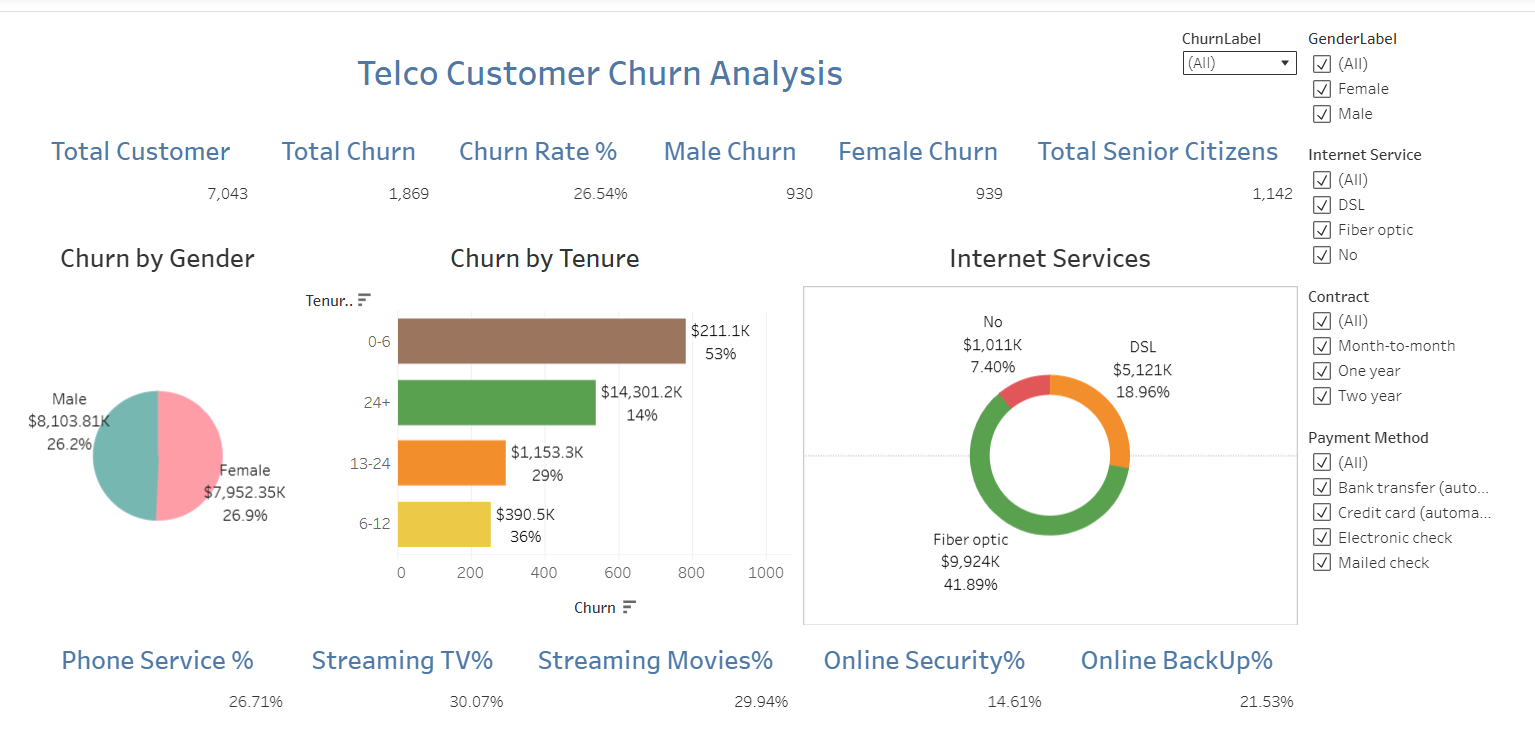

The dashboard page shown, as its layout file describes it:
{"tool":"tableau","page":{"name":"Analysis","canvas":[1200,1100],"ordinal":0},"visuals":[{"type":"text","box":[8,8,922.8,78.7]},{"type":"filter","title":"Churn","param":"[federated.1927wv40rdjf9t135pjyd0l8rv41].[none:Calculation_0001070598205687:nk]","box":[930.8,8,101.2,78.7]},{"type":"filter","title":"Gender","param":"[federated.1927wv40rdjf9t135pjyd0l8rv41].[none:Calculation_0001070587375858:nk]","box":[1032,8,160,93]},{"type":"worksheet","title":"Total Customer","mark":"Automatic","box":[8,86.7,188,85.3]},{"type":"worksheet","title":"Churn","mark":"Automatic","box":[196,86.7,145,85.3]},{"type":"worksheet","title":"Churn%","mark":"Automatic","box":[341,86.7,158,85.3]},{"type":"worksheet","title":"malechurn","mark":"Automatic","box":[499,86.7,149,85.3]},{"type":"worksheet","title":"female Churn","mark":"Automatic","box":[648,86.7,152,85.3]},{"type":"worksheet","title":"Senior","mark":"Automatic","box":[800,86.7,232,85.3]},{"type":"filter","title":"InternetService","param":"[federated.1927wv40rdjf9t135pjyd0l8rv41].[none:InternetService:nk]","box":[1032,101,160,113]},{"type":"worksheet","title":"Gender","mark":"Pie","box":[8,172,215.3,322]},{"type":"worksheet","title":"year","mark":"Automatic","rows":["Tenure_bin"],"cols":["Churn"],"box":[223.3,172,404.3,322]},{"type":"worksheet","title":"InternetService","mark":"Pie","rows":["Calculation_0001070584828137","Calculation_0001070584828137"],"box":[627.6,172,404.4,322]},{"type":"filter","title":"contract","param":"[federated.1927wv40rdjf9t135pjyd0l8rv41].[none:Contract:nk]","box":[1032,214,160,113]},{"type":"filter","title":"payment","param":"[federated.1927wv40rdjf9t135pjyd0l8rv41].[none:PaymentMethod:nk]","box":[1032,327,160,133]},{"type":"worksheet","title":"phnoservice","mark":"Automatic","box":[8,494,215.3,71.2]},{"type":"worksheet","title":"tv","mark":"Automatic","box":[223.3,494,176.7,71.2]},{"type":"worksheet","title":"movies","mark":"Automatic","box":[400,494,227.6,71.2]},{"type":"worksheet","title":"security","mark":"Automatic","box":[627.6,494,202.2,71.2]},{"type":"worksheet","title":"backup","mark":"Automatic","box":[829.8,494,202.2,71.2]},{"type":"worksheet","title":"contract","mark":"Automatic","rows":["Calculation_0001070580584676"],"cols":["Contract"],"box":[8,565.2,389.1,526.8]},{"type":"worksheet","title":"payment","mark":"Automatic","rows":["PaymentMethod"],"cols":["TotalCharges"],"box":[397.2,565.2,634.8,526.8]}]}

Visuals, with their boxes on the page's 1200x1100 design canvas (x1, y1, x2, y2). These are canvas units, not pixel positions in the 1535x733 screenshot, which may show the page scaled, cropped or inside an application window:
text: detection(8, 8, 931, 87)
"Churn" filter: detection(931, 8, 1032, 87)
"Gender" filter: detection(1032, 8, 1192, 101)
"Total Customer" worksheet: detection(8, 87, 196, 172)
"Churn" worksheet: detection(196, 87, 341, 172)
"Churn%" worksheet: detection(341, 87, 499, 172)
"malechurn" worksheet: detection(499, 87, 648, 172)
"female Churn" worksheet: detection(648, 87, 800, 172)
"Senior" worksheet: detection(800, 87, 1032, 172)
"InternetService" filter: detection(1032, 101, 1192, 214)
"Gender" worksheet (Pie marks): detection(8, 172, 223, 494)
"year" worksheet: detection(223, 172, 628, 494)
"InternetService" worksheet (Pie marks): detection(628, 172, 1032, 494)
"contract" filter: detection(1032, 214, 1192, 327)
"payment" filter: detection(1032, 327, 1192, 460)
"phnoservice" worksheet: detection(8, 494, 223, 565)
"tv" worksheet: detection(223, 494, 400, 565)
"movies" worksheet: detection(400, 494, 628, 565)
"security" worksheet: detection(628, 494, 830, 565)
"backup" worksheet: detection(830, 494, 1032, 565)
"contract" worksheet: detection(8, 565, 397, 1092)
"payment" worksheet: detection(397, 565, 1032, 1092)
